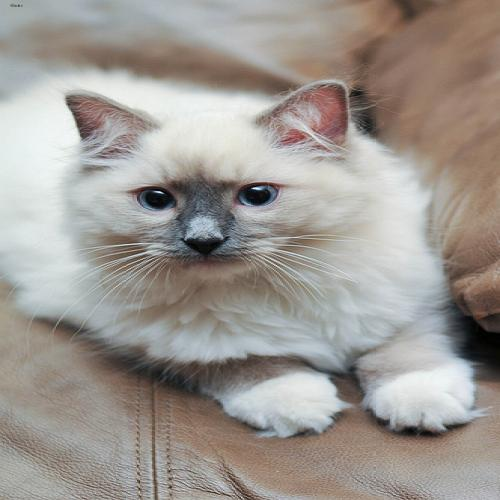ragdoll: (45, 82, 389, 282)
